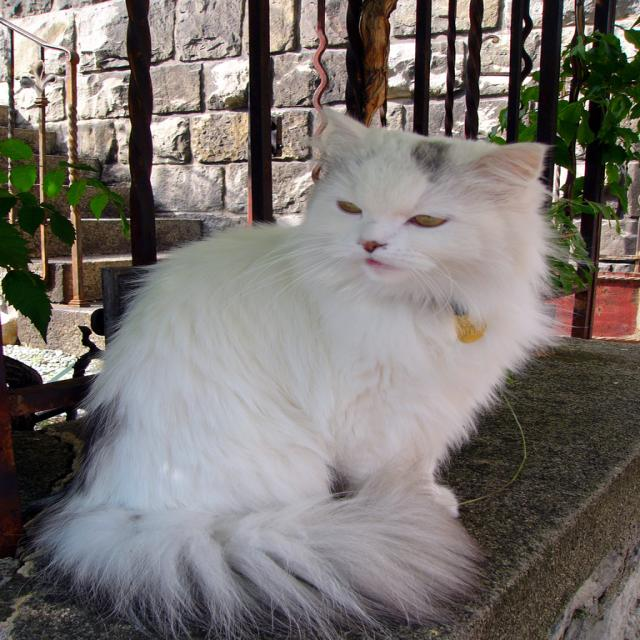Cat: (25, 104, 584, 639)
